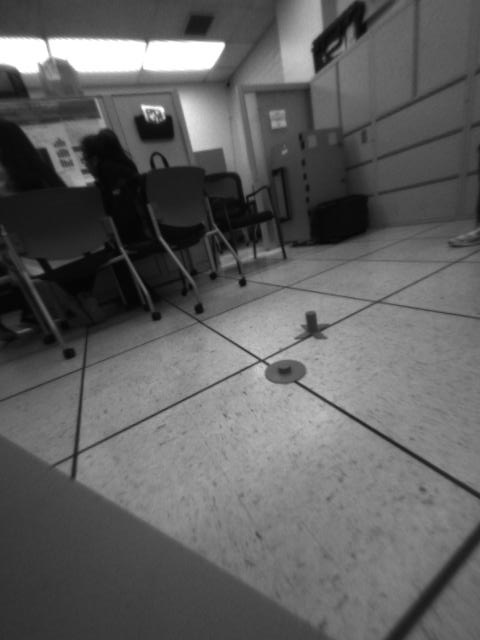X: (293, 310, 331, 340)
